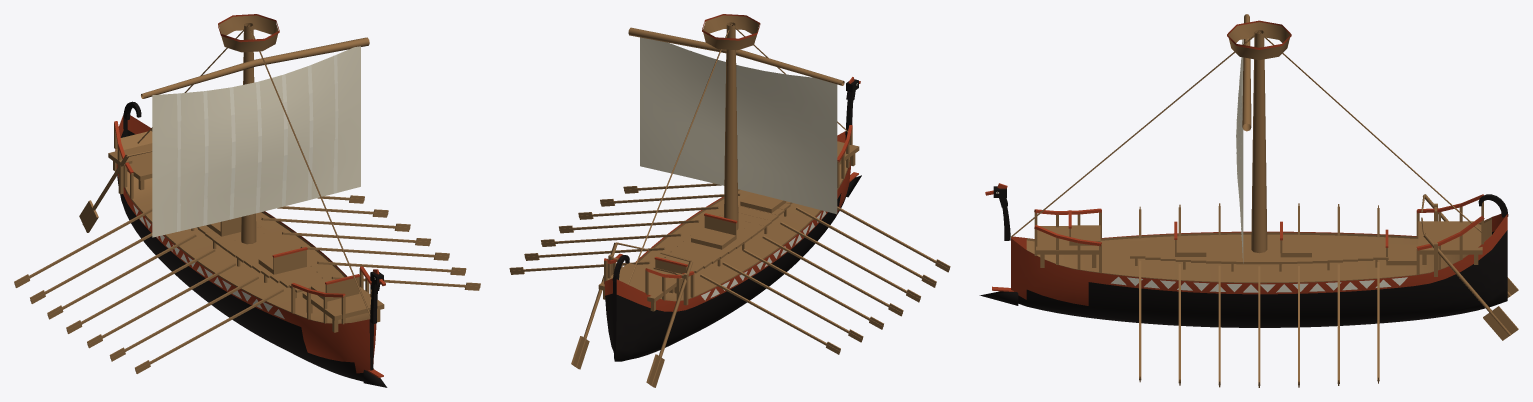
Rendered from ship_crewdestroyer_blockout_LOD0.obj.
3 renders of one model, left to right at view 1: azimuth 30°, elevation 25°; view 2: azimuth 150°, elevation 25°; view 3: azimuth 270°, elevation 25°, orthographic. The views are drawn at different scales.
Parts seen in each view (by area): view 1: ship_crewdestroyer_blockout_LOD0; view 2: ship_crewdestroyer_blockout_LOD0; view 3: ship_crewdestroyer_blockout_LOD0.
Part boxes in pixels (x1,y1,x2,y2): ship_crewdestroyer_blockout_LOD0: (14,14,480,387); ship_crewdestroyer_blockout_LOD0: (509,14,950,387); ship_crewdestroyer_blockout_LOD0: (979,14,1518,387).
Size of the model in its own units: 17.68 by 13.3 by 22.46.
